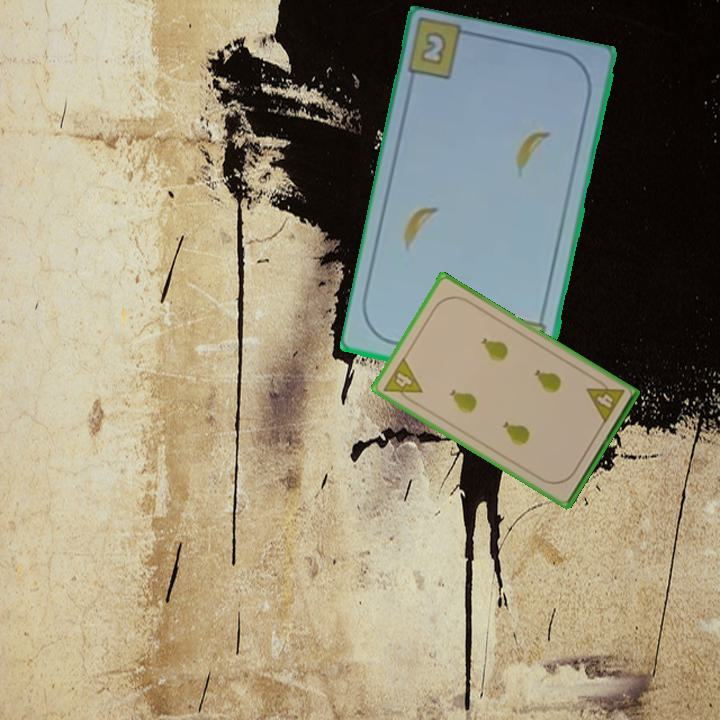2b: (417, 28, 450, 69)
4p: (379, 354, 425, 407), (583, 374, 627, 427)
